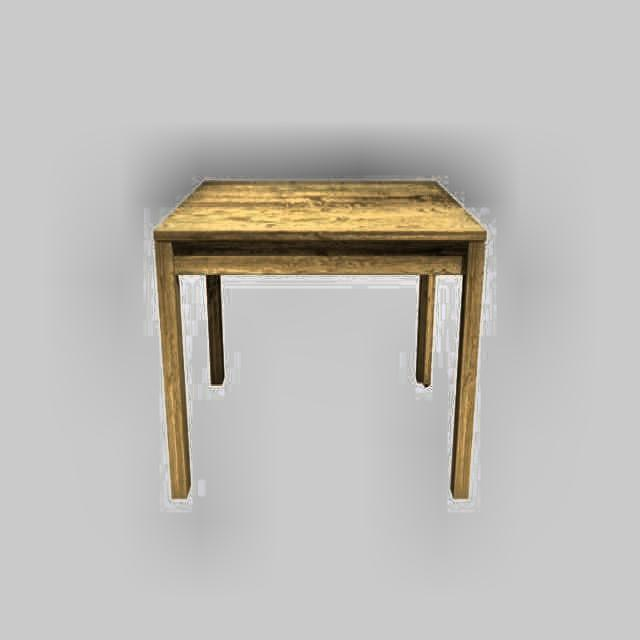mesa: (152, 174, 488, 500)
